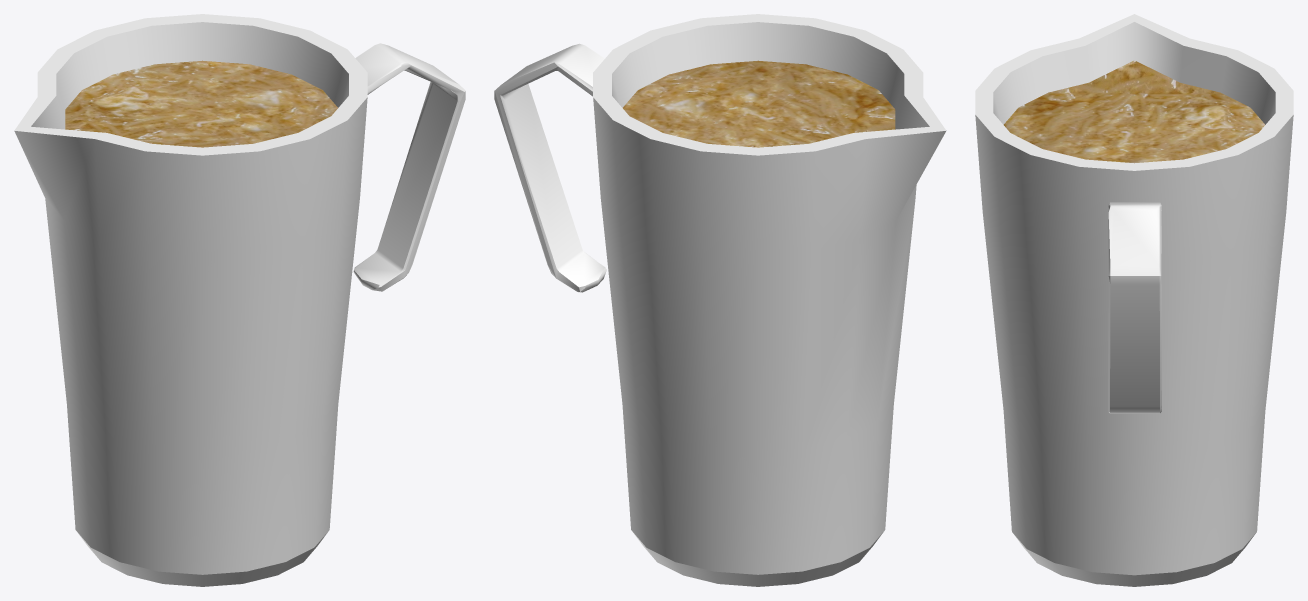
Rendered from Jar.FBX.
The picture shows the model from 3 angles, left to right: view 1: azimuth 30°, elevation 25°; view 2: azimuth 150°, elevation 25°; view 3: azimuth 270°, elevation 25°; orthographic projection. The views are drawn at different scales.
Visible parts, largest first — view 1: Jar; view 2: Jar; view 3: Jar.
Boxes of the visible parts, box(x1,y1,x2,y2) form: Jar: box(14, 14, 465, 586); Jar: box(494, 14, 946, 586); Jar: box(975, 14, 1293, 586).
Bounding box in the file's own units: 25.22 × 16.42 × 24.86.
Materials: 1 (1 with a texture image).
